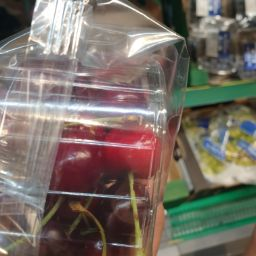Cherry: (14, 60, 166, 256), (70, 118, 153, 203), (92, 127, 158, 181), (46, 211, 98, 256)
